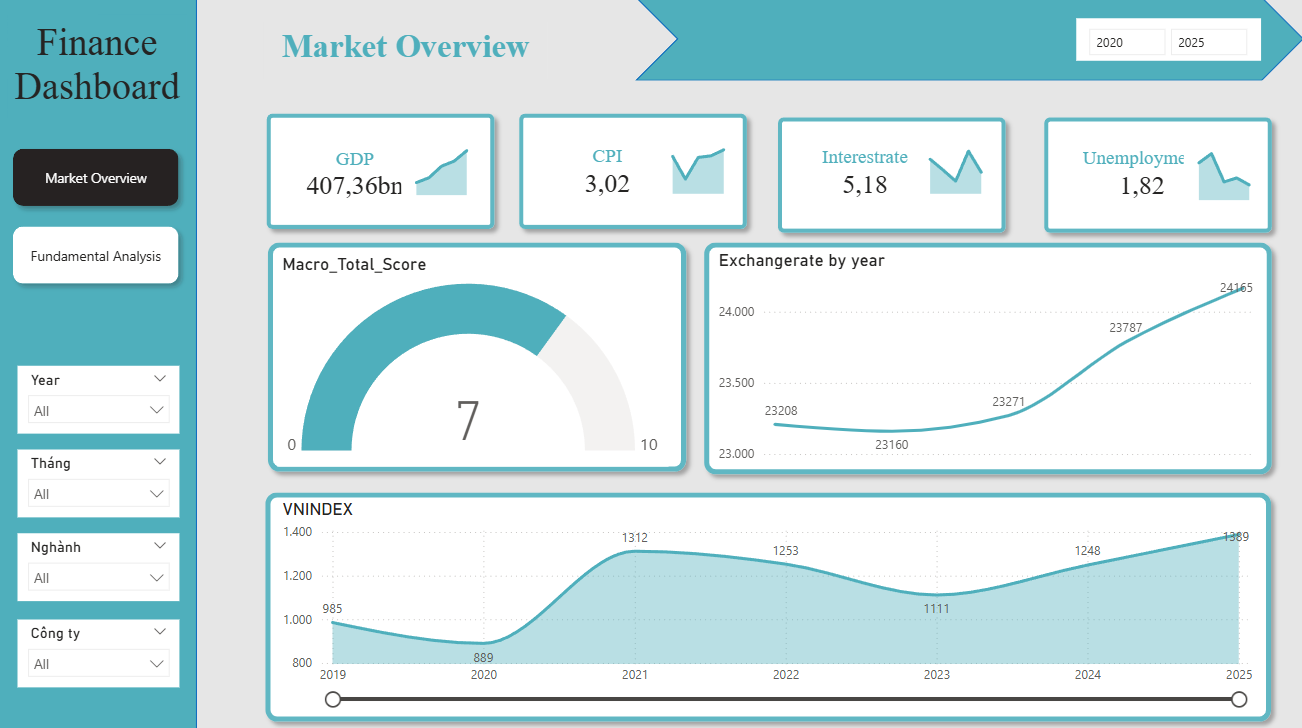

This screenshot's page, from the dashboard's own definition file:
{"tool":"powerbi","page":{"name":"Market Overview","canvas":[1280,720],"ordinal":0},"visuals":[{"type":"shape","box":[0,0,197.6,720.7],"z":0,"group":"g1"},{"type":"group","id":"g1","title":"Group 1","box":[0,0,197.6,720.7],"z":1000},{"type":"group","id":"g2","title":"Group 2","box":[626.1,0,654.2,81.9],"z":2000},{"type":"textbox","box":[12.5,16.7,175.3,140.5],"z":2000,"group":"g1"},{"type":"shape","box":[626.1,0,654.2,81.9],"z":2500,"group":"g2"},{"type":"slicer","fields":{"Values":["Dim_Date.Year"]},"box":[1057.6,20.8,181,41.6],"z":3000,"group":"g2"},{"type":"group","id":"g3","title":"Group 3","box":[257.4,105.7,240.7,130.8],"z":3000},{"type":"pageNavigator","box":[8.3,139.1,180.9,150.3],"z":3000,"group":"g1"},{"type":"slicer","fields":{"Values":["dim_company_info.ten_cong_ty"]},"box":[22.3,609.4,158.6,66.8],"z":3500,"group":"g1"},{"type":"group","id":"g4","title":"Group 7","box":[257.4,231,427.1,242.1],"z":4000},{"type":"slicer","fields":{"Values":["dim_company_info.nganh"]},"box":[22.3,524.5,158.6,66.8],"z":4000,"group":"g1"},{"type":"slicer","fields":{"Values":["Dim_Date.Month Name"]},"box":[22.3,442.4,158.6,66.8],"z":4500,"group":"g1"},{"type":"group","id":"g5","title":"Group 8","box":[684.5,231,573.2,244.9],"z":5000},{"type":"slicer","fields":{"Values":["Dim_Date.Year"]},"box":[22.3,360.3,158.6,66.8],"z":5000,"group":"g1"},{"type":"group","id":"g6","title":"Group 9","box":[256,475.8,1001.7,242.1],"z":6000},{"type":"group","id":"g7","title":"Group 3","box":[503.7,105.7,240.7,130.8],"z":7000},{"type":"group","id":"g8","title":"Group 3","box":[756.9,108.5,240.7,130.8],"z":8000},{"type":"group","id":"g9","title":"Group 3","box":[1017,108.5,240.7,130.8],"z":9000},{"type":"textbox","box":[262.9,24.5,277.6,57.5],"z":9500},{"type":"shape","box":[257.4,105.7,240.7,130.8],"z":10002,"group":"g3"},{"type":"shape","box":[503.7,105.7,240.7,130.8],"z":10002,"group":"g7"},{"type":"shape","box":[756.9,108.5,240.7,130.8],"z":10002,"group":"g8"},{"type":"shape","box":[1017,108.5,240.7,130.8],"z":10002,"group":"g9"},{"type":"shape","box":[257.4,231,427.1,242.1],"z":10010,"group":"g4"},{"type":"shape","box":[684.5,231,573.2,244.9],"z":10012,"group":"g5"},{"type":"shape","box":[256,475.8,1001.7,242.1],"z":10014,"group":"g6"},{"type":"cardVisual","fields":{"Data":["Avg(fact_macro_economic.cpi)"]},"box":[521.8,130.1,154.9,83.4],"z":10502,"group":"g7"},{"type":"cardVisual","fields":{"Data":["Avg(fact_macro_economic.interestrate)"]},"box":[773.6,130.1,154.9,83.4],"z":10502,"group":"g8"},{"type":"cardVisual","fields":{"Data":["Avg(fact_macro_economic.unemployment)"]},"box":[1032.2,131.4,180.9,82.1],"z":10502,"group":"g9"},{"type":"cardVisual","fields":{"Data":["Avg(fact_macro_economic.gdp)"]},"box":[275.5,132.2,154.4,83.5],"z":10502,"group":"g3"},{"type":"gauge","fields":{"Y":["KeyMeasures.Macro_Total_Score"]},"box":[275.4,250.5,382.2,208.9],"z":10510,"group":"g4"},{"type":"lineChart","fields":{"Category":["fact_macro_economic.year"],"Y":["Avg(fact_macro_economic.exchangerate)"]},"box":[703.3,246.4,532.9,214.3],"z":10512,"group":"g5"},{"type":"areaChart","title":"VNINDEX","fields":{"Y":["Avg(fact_market_index.close)"],"Category":["fact_market_index.time.Biến động.Phân cấp ngày tháng.Năm"]},"box":[276.9,490,958.6,207.3],"z":10514,"group":"g6"},{"type":"lineChart","fields":{"Category":["fact_macro_economic.year"],"Y":["Avg(fact_macro_economic.cpi)"]},"box":[647.9,129.7,80,68.1],"z":11002,"group":"g7"},{"type":"lineChart","fields":{"Category":["fact_macro_economic.year"],"Y":["Sum(fact_macro_economic.interestrate)"]},"box":[899.7,129.7,80,68.1],"z":11002,"group":"g8"},{"type":"lineChart","fields":{"Category":["fact_macro_economic.year"],"Y":["Avg(fact_macro_economic.gdp)"]},"box":[397.9,130.8,79.3,68.2],"z":11002,"group":"g3"},{"type":"lineChart","fields":{"Category":["fact_macro_economic.year"],"Y":["Avg(fact_macro_economic.unemployment)"]},"box":[1163,135.6,79.3,68.2],"z":11002,"group":"g9"}]}

Visuals, with their boxes in screenshot pixels (x1, y1, x2, y2), scaled from the page's 1280x720 canvas onto the 1302x728 screenshot:
shape: box=[0, 0, 201, 727]
"Group 1" group: box=[0, 0, 201, 727]
"Group 2" group: box=[637, 0, 1301, 83]
textbox: box=[13, 17, 191, 159]
shape: box=[637, 0, 1301, 83]
slicer - Dim_Date.Year: box=[1076, 21, 1260, 63]
"Group 3" group: box=[262, 107, 507, 239]
pageNavigator: box=[8, 141, 192, 293]
slicer - dim_company_info.ten_cong_ty: box=[23, 616, 184, 684]
"Group 7" group: box=[262, 234, 696, 478]
slicer - dim_company_info.nganh: box=[23, 530, 184, 598]
slicer - Dim_Date.Month Name: box=[23, 447, 184, 515]
"Group 8" group: box=[696, 234, 1279, 481]
slicer - Dim_Date.Year: box=[23, 364, 184, 432]
"Group 9" group: box=[260, 481, 1279, 726]
"Group 3" group: box=[512, 107, 757, 239]
"Group 3" group: box=[770, 110, 1015, 242]
"Group 3" group: box=[1034, 110, 1279, 242]
textbox: box=[267, 25, 550, 83]
shape: box=[262, 107, 507, 239]
shape: box=[512, 107, 757, 239]
shape: box=[770, 110, 1015, 242]
shape: box=[1034, 110, 1279, 242]
shape: box=[262, 234, 696, 478]
shape: box=[696, 234, 1279, 481]
shape: box=[260, 481, 1279, 726]
cardVisual - Avg(fact_macro_economic.cpi): box=[531, 132, 688, 216]
cardVisual - Avg(fact_macro_economic.interestrate): box=[787, 132, 944, 216]
cardVisual - Avg(fact_macro_economic.unemployment): box=[1050, 133, 1234, 216]
cardVisual - Avg(fact_macro_economic.gdp): box=[280, 134, 437, 218]
gauge - KeyMeasures.Macro_Total_Score: box=[280, 253, 669, 465]
lineChart - fact_macro_economic.year x Avg(fact_macro_economic.exchangerate): box=[715, 249, 1257, 466]
"VNINDEX" areaChart: box=[282, 495, 1257, 705]
lineChart - fact_macro_economic.year x Avg(fact_macro_economic.cpi): box=[659, 131, 740, 200]
lineChart - fact_macro_economic.year x Sum(fact_macro_economic.interestrate): box=[915, 131, 997, 200]
lineChart - fact_macro_economic.year x Avg(fact_macro_economic.gdp): box=[405, 132, 485, 201]
lineChart - fact_macro_economic.year x Avg(fact_macro_economic.unemployment): box=[1183, 137, 1264, 206]
